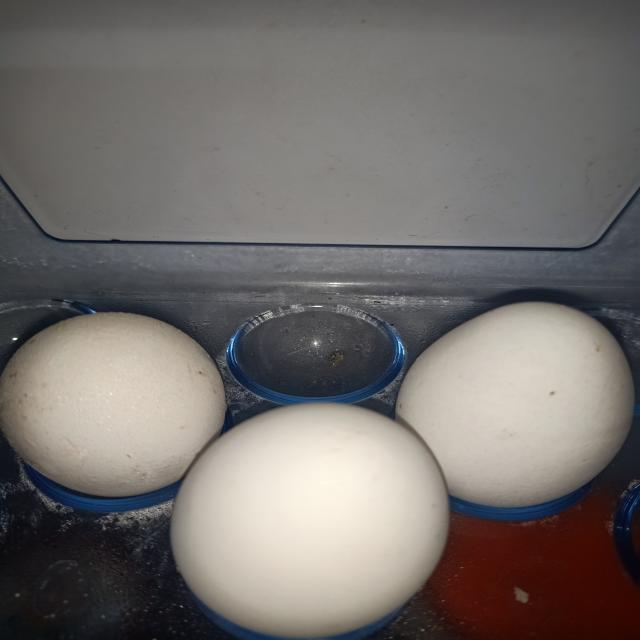Egg: (170, 404, 449, 639), (396, 302, 635, 508), (0, 312, 225, 498)
